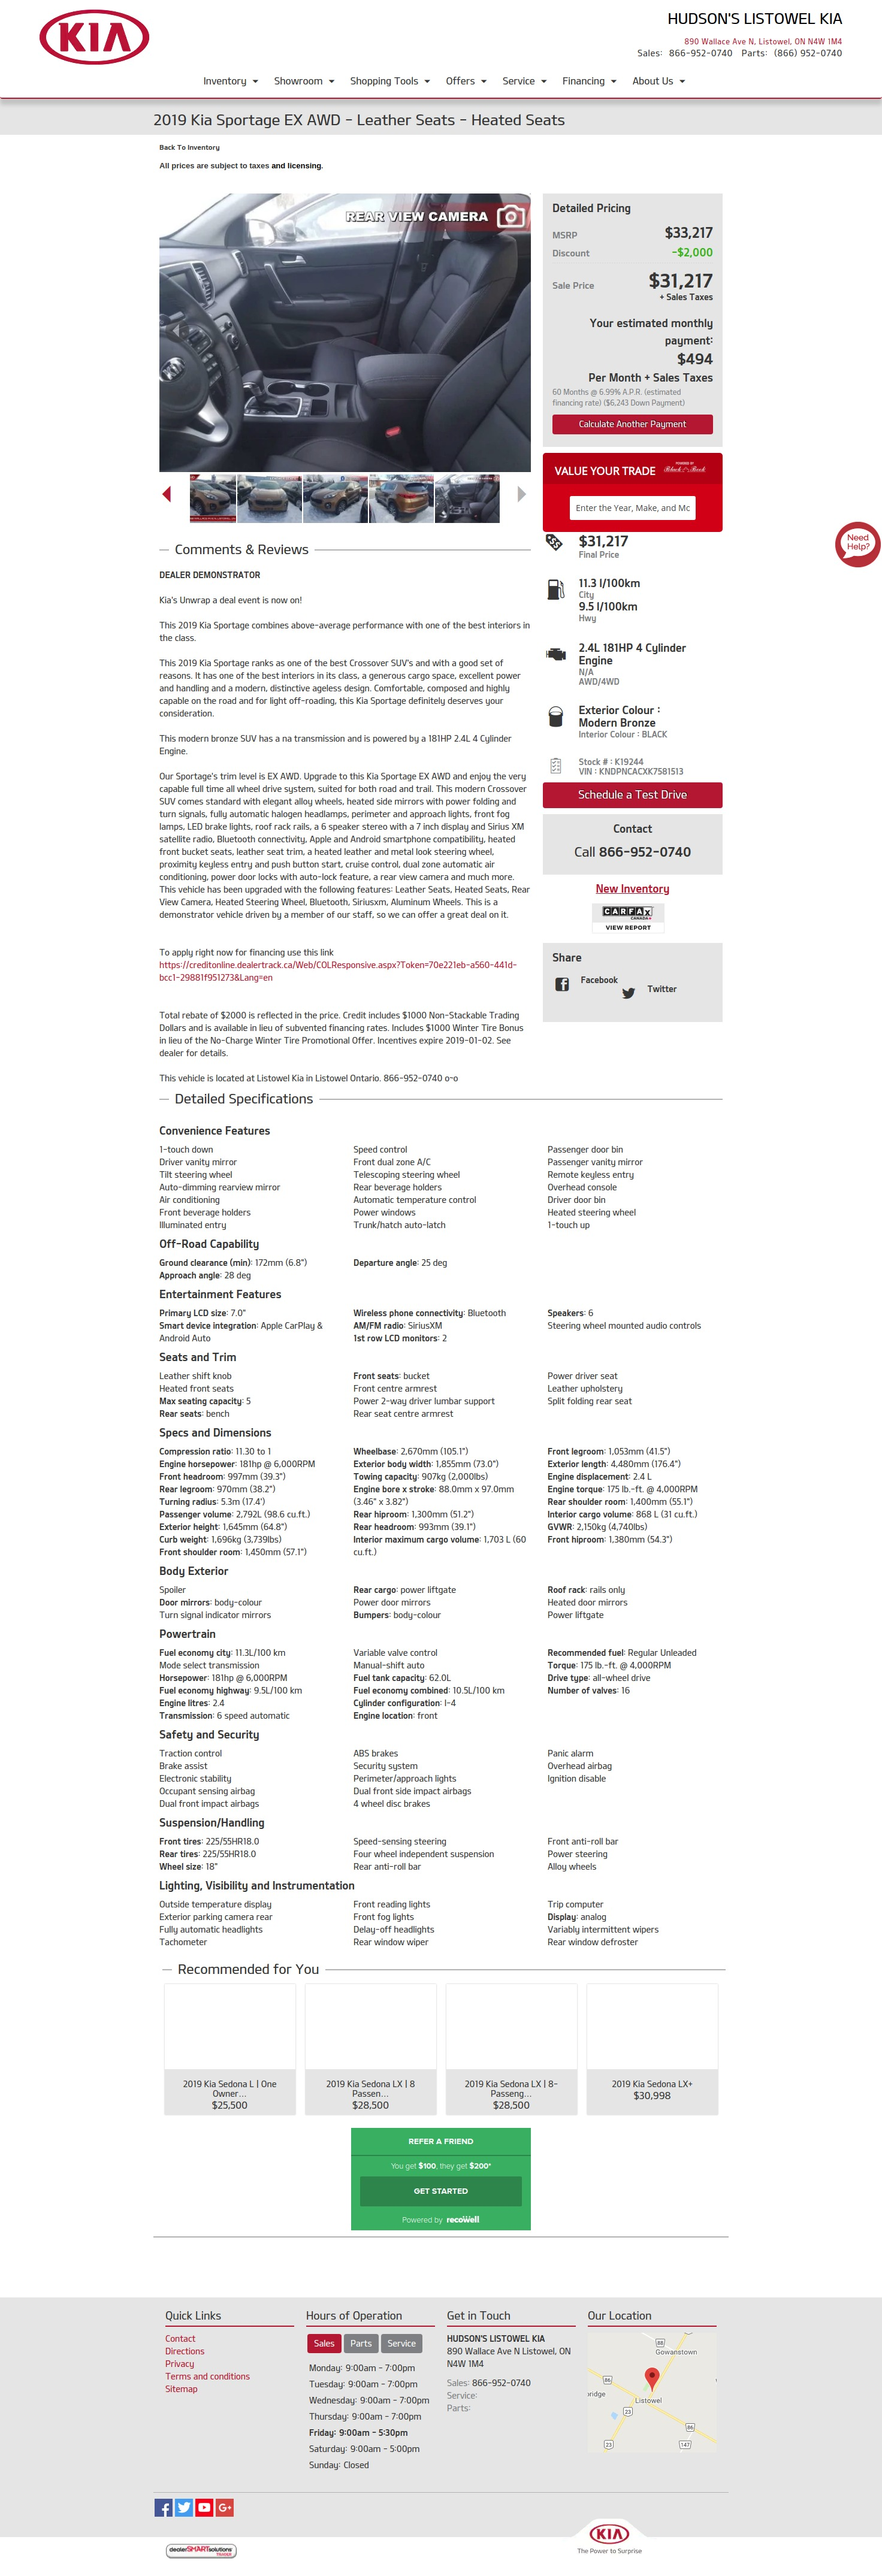car: (517, 486, 527, 503)
